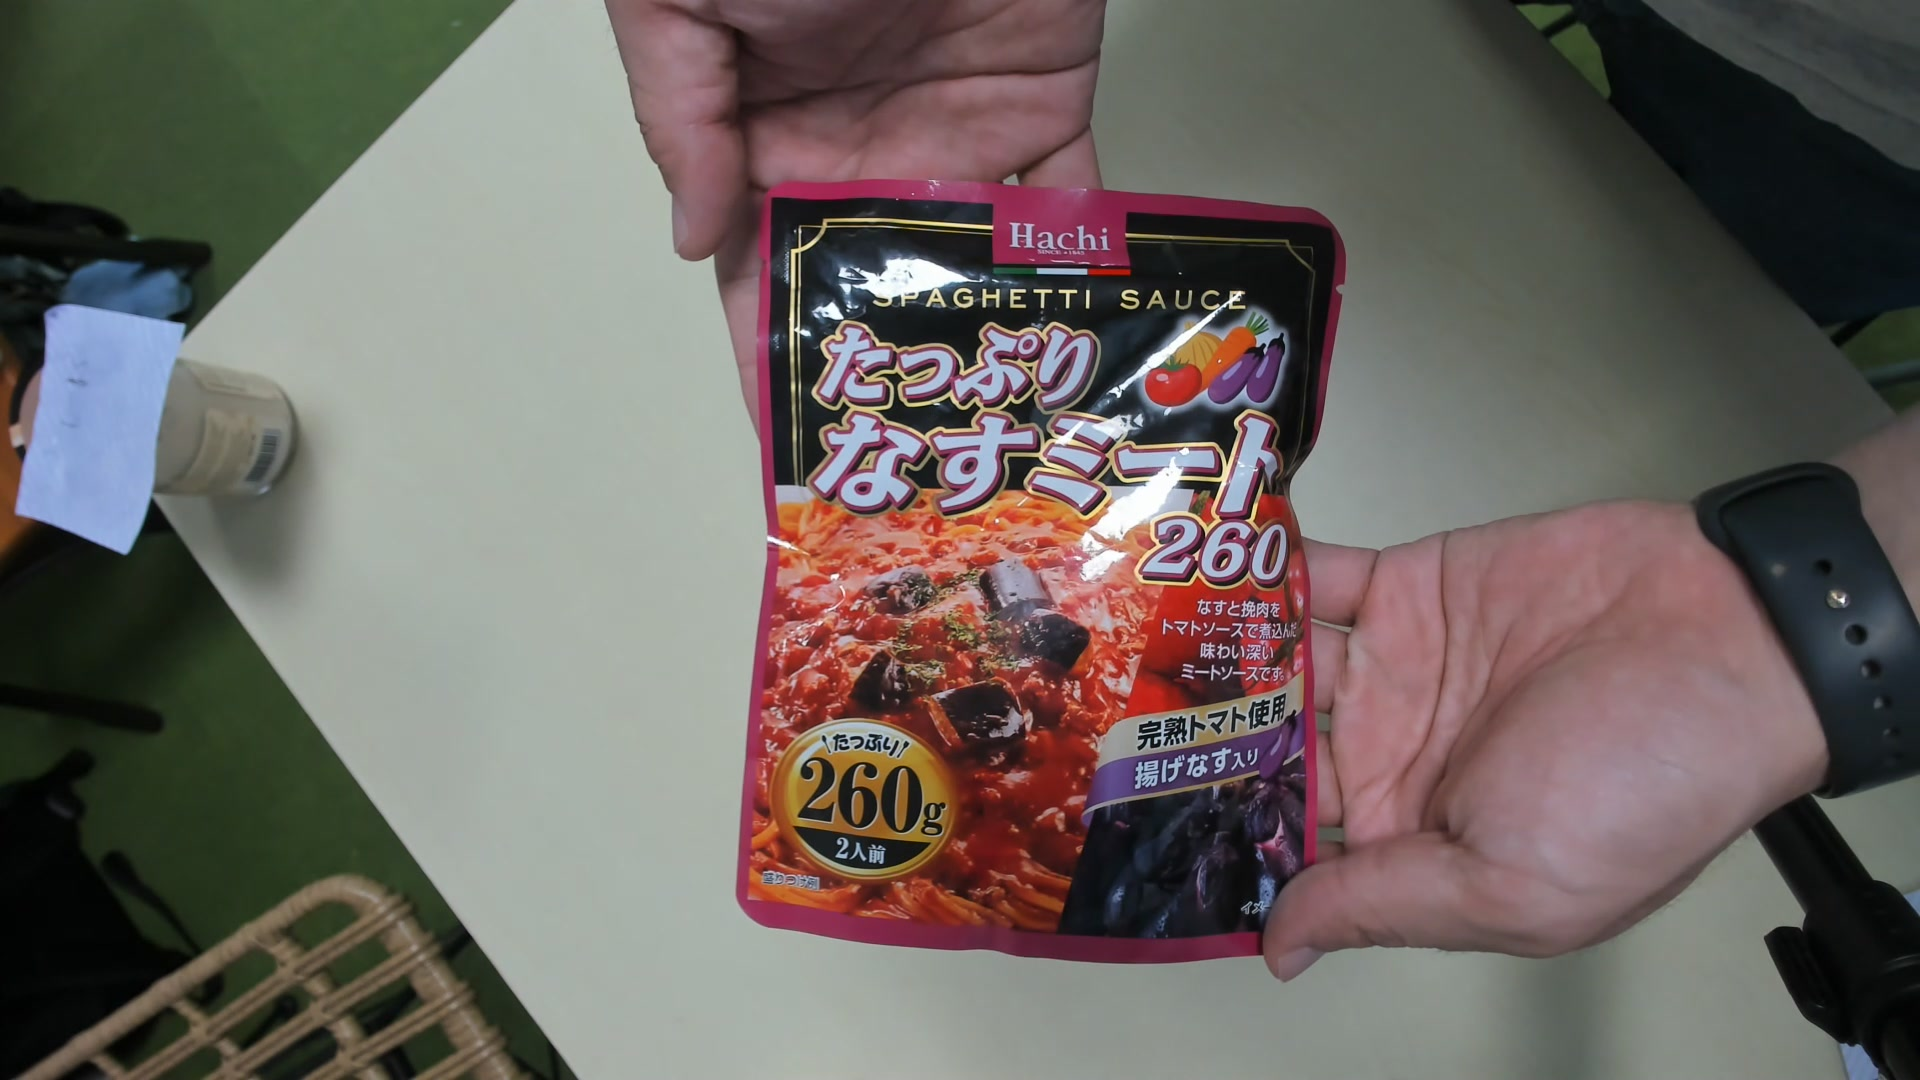PastaSauce_200-299g_NonHalal_NonHealthy: (744, 193, 1317, 964)
